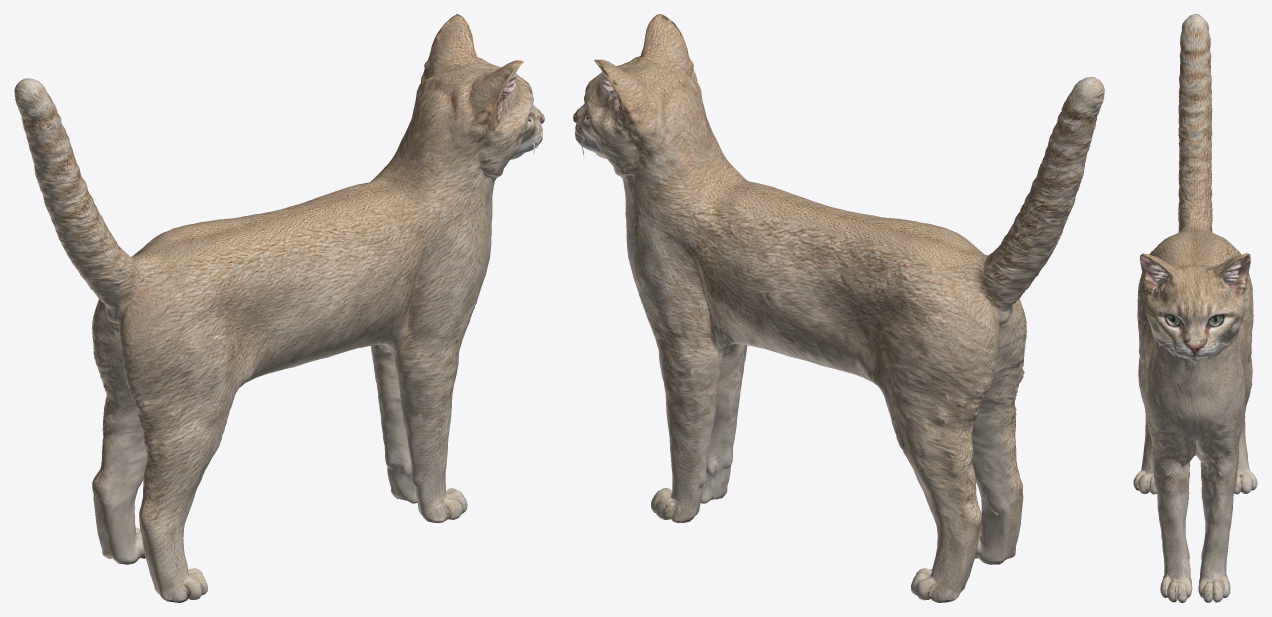
The model's file is FUTABACAT.glb.
3 renders of one model, left to right at view 1: azimuth 30°, elevation 25°; view 2: azimuth 150°, elevation 25°; view 3: azimuth 270°, elevation 25°, orthographic. The views are drawn at different scales.
Visible parts, largest first — view 1: tripo_node_a5c83997-3673-43f0-a275-223939f38450; view 2: tripo_node_a5c83997-3673-43f0-a275-223939f38450; view 3: tripo_node_a5c83997-3673-43f0-a275-223939f38450.
Part boxes in pixels (box(x1,y1,x2,y2)): tripo_node_a5c83997-3673-43f0-a275-223939f38450: box(14, 14, 544, 602); tripo_node_a5c83997-3673-43f0-a275-223939f38450: box(573, 14, 1104, 602); tripo_node_a5c83997-3673-43f0-a275-223939f38450: box(1133, 14, 1257, 602).
Size of the model in its own units: 1.04 by 1 by 0.2648.
Materials: 1 (1 with a texture image).
